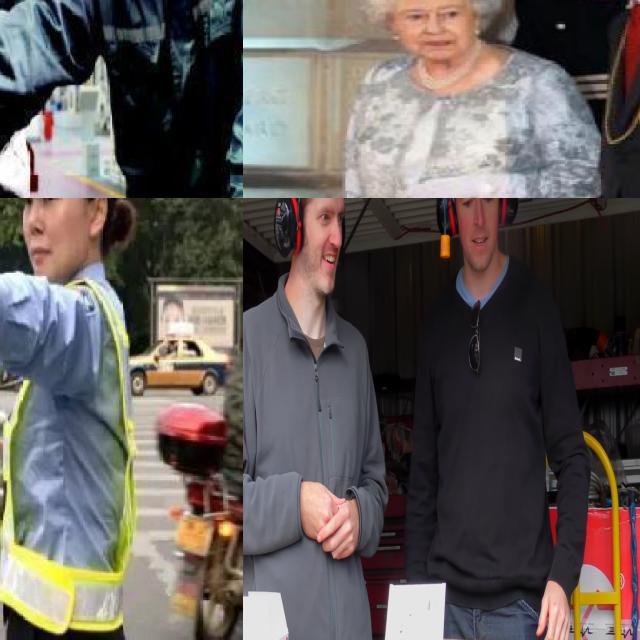Ear-protection: (273, 198, 303, 264), (437, 198, 460, 245), (497, 198, 518, 225)
face_nomask: (11, 198, 83, 283), (402, 0, 473, 52)
hand_glove: (396, 175, 493, 198)
person: (391, 198, 573, 640), (0, 198, 161, 640), (243, 198, 382, 640), (316, 0, 583, 198), (71, 0, 243, 198), (547, 0, 640, 198), (0, 0, 81, 198)
vest: (0, 272, 144, 633)
